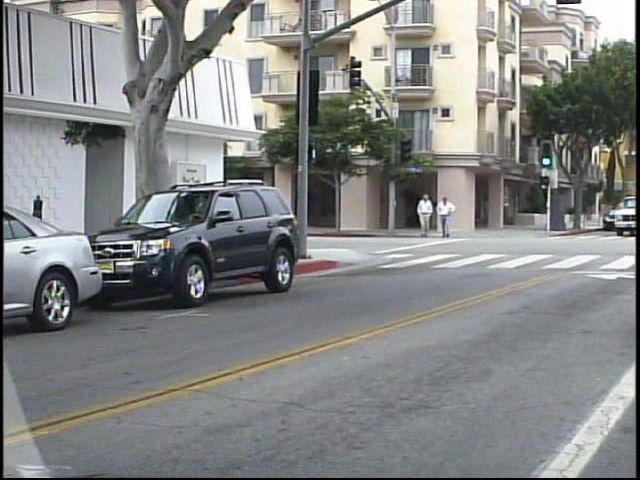person: (413, 190, 435, 243), (435, 192, 457, 243)
